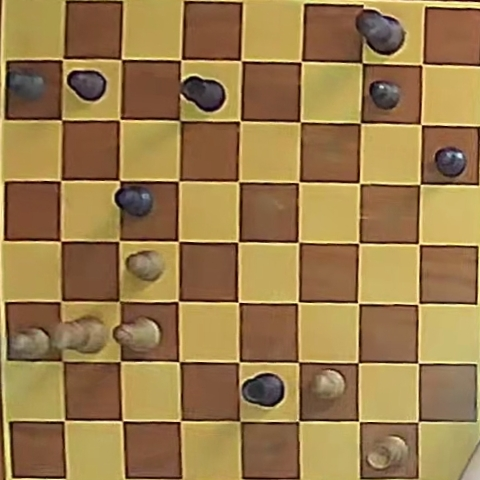black-king: (356, 10, 405, 55)
black-pawn: (67, 69, 106, 101), (8, 69, 46, 100), (116, 186, 153, 217), (435, 147, 467, 177), (370, 81, 401, 109)
black-rook: (181, 76, 225, 112), (241, 373, 285, 408)
white-bishop: (115, 317, 160, 352)
white-king: (54, 317, 107, 353)
white-pawn: (10, 327, 51, 359), (126, 250, 164, 281), (311, 369, 346, 399)
white-rook: (367, 436, 408, 470)
